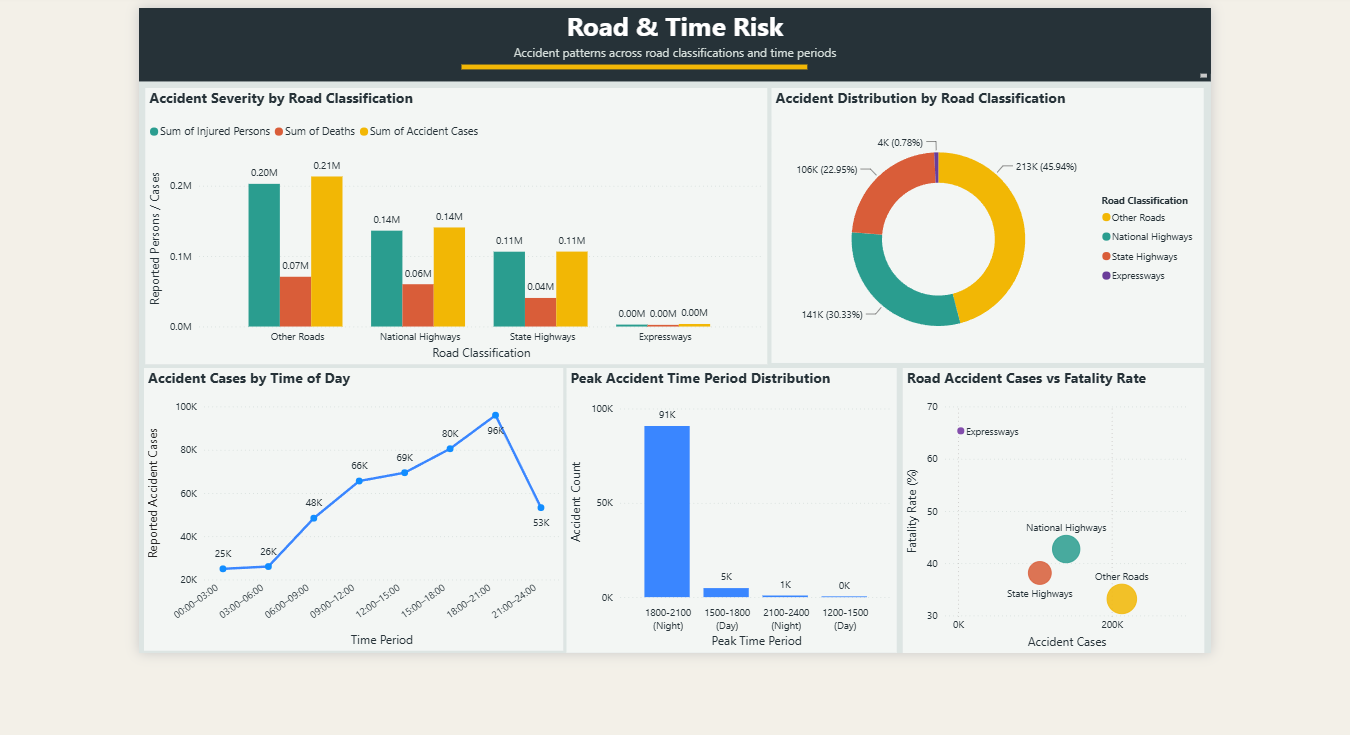

This screenshot's page, from the dashboard's own definition file:
{"tool":"powerbi","page":{"name":"Page 3","canvas":[1320,795],"ordinal":2},"visuals":[{"type":"clusteredColumnChart","title":"Accident Severity by Road Classification","fields":{"Y":["Sum(Road Severity Summary.Injured Persons)","Sum(Road Severity Summary.Deaths)","Sum(Road Severity Summary Final.Accident Cases)"],"Category":["Road Severity Summary Final.Road Classification"]},"box":[8.1,98.4,765.8,340.3],"z":0},{"type":"lineChart","title":"Accident Cases by Time of Day","fields":{"Category":["Time Period Summary.Time Period"],"Y":["Sum(Time Period Summary.Accident Cases)"]},"box":[6.5,443.5,516.1,348.4],"z":1000},{"type":"columnChart","title":"Peak Accident Time Period Distribution","fields":{"Category":["time_occurrence_cleaned.Peak Time Period"],"Y":["Sum(time_occurrence_cleaned.Peak Time Accidents)"]},"box":[526.8,443.5,406.5,350],"z":2000},{"type":"scatterChart","title":"Road Accident Cases vs Fatality Rate","fields":{"X":["Sum(Road Severity Summary Final.Accident Cases)"],"Y":["Avg(Road Severity Summary Final.Fatality Rate (%))"],"Series":["Road Severity Summary Final.Road Classification"],"Size":["Sum(Road Severity Summary Final.Deaths)"]},"box":[940.3,443.5,371,351.6],"z":3000},{"type":"donutChart","title":"Accident Distribution by Road Classification","fields":{"Category":["Road Severity Summary Final.Road Classification"],"Y":["Sum(Road Severity Summary Final.Accident Cases)"]},"box":[779,98.4,532.3,338.7],"z":4000},{"type":"textbox","title":"Road & Time Risk","box":[0,0,1319.4,90.3],"z":5000},{"type":"shape","box":[396.8,0,425.8,145.2],"z":6000}]}

Visuals, with their boxes on the page's 1320x795 design canvas (x1, y1, x2, y2). These are canvas units, not pixel positions in the 1350x735 screenshot, which may show the page scaled, cropped or inside an application window:
"Accident Severity by Road Classification" clusteredColumnChart: 8, 98, 774, 439
"Accident Cases by Time of Day" lineChart: 6, 444, 523, 792
"Peak Accident Time Period Distribution" columnChart: 527, 444, 933, 794
"Road Accident Cases vs Fatality Rate" scatterChart: 940, 444, 1311, 795
"Accident Distribution by Road Classification" donutChart: 779, 98, 1311, 437
"Road & Time Risk" textbox: 0, 0, 1319, 90
shape: 397, 0, 823, 145
